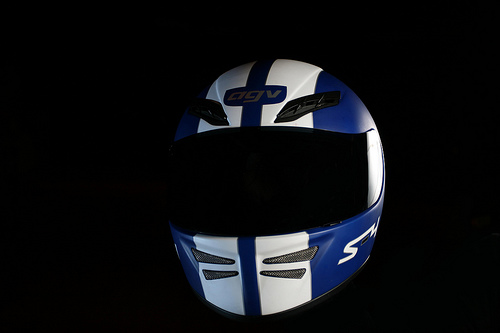helmet: (158, 58, 384, 319)
